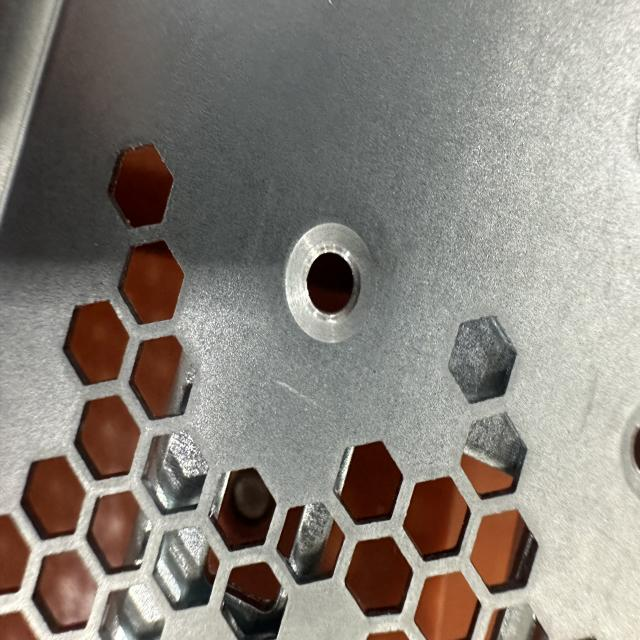Missing screw: (276, 205, 389, 353)
